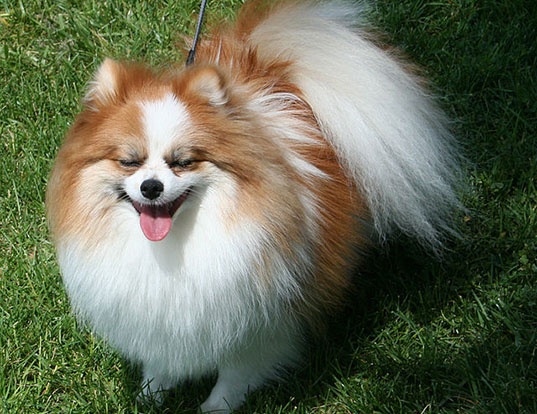pomeranian: (50, 23, 464, 414)
